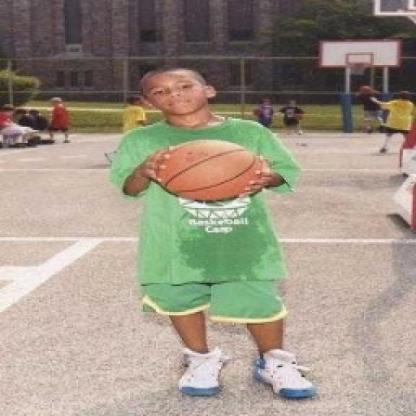basketball: (149, 137, 266, 198)
